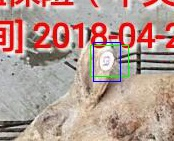text: (90, 45, 128, 76)
